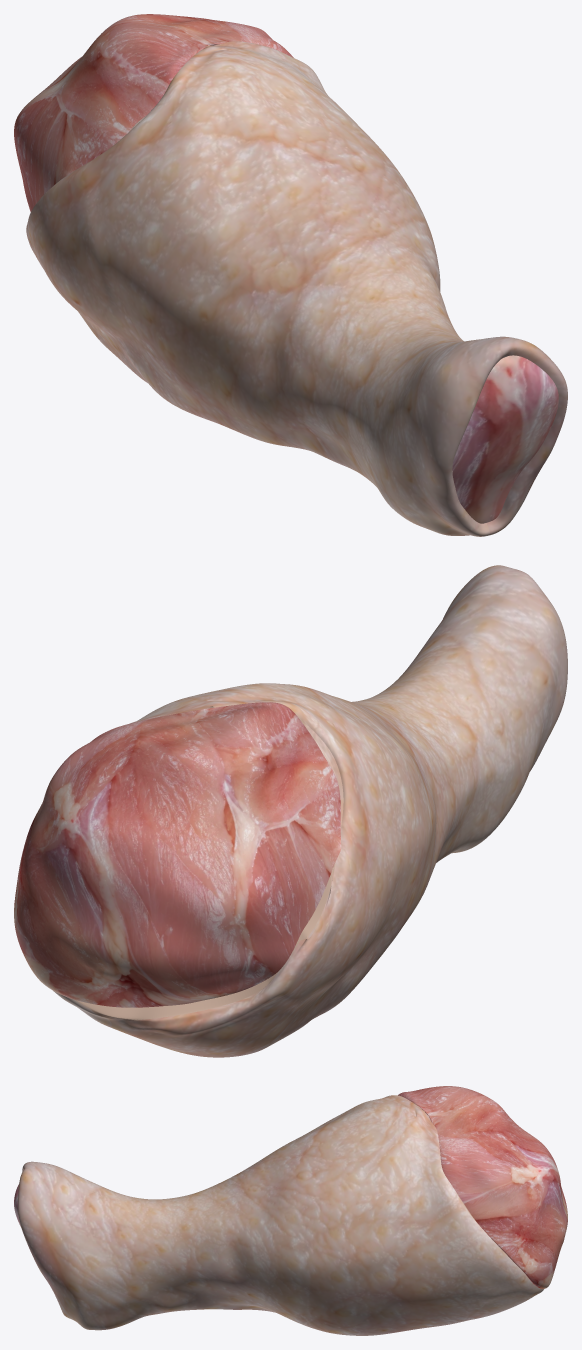
File: drumette.glb
3 views of the same model, one above another, from view 1: azimuth 30°, elevation 25°; view 2: azimuth 150°, elevation 25°; view 3: azimuth 270°, elevation 25° (orthographic). The views are drawn at different scales.
Visible parts, largest first — view 1: drumette_skin, drumette_muscle; view 2: drumette_muscle, drumette_skin; view 3: drumette_skin, drumette_muscle.
Part boxes in pixels (x1,y1,x2,y2): drumette_skin: [26, 41, 567, 536]; drumette_muscle: [14, 14, 558, 523]; drumette_muscle: [14, 702, 343, 1007]; drumette_skin: [53, 565, 567, 1057]; drumette_skin: [18, 1095, 543, 1335]; drumette_muscle: [14, 1086, 567, 1288].
Bounding box in the file's own units: 1.57 × 1.69 × 3.8.
Materials: 2 (2 with a texture image).
